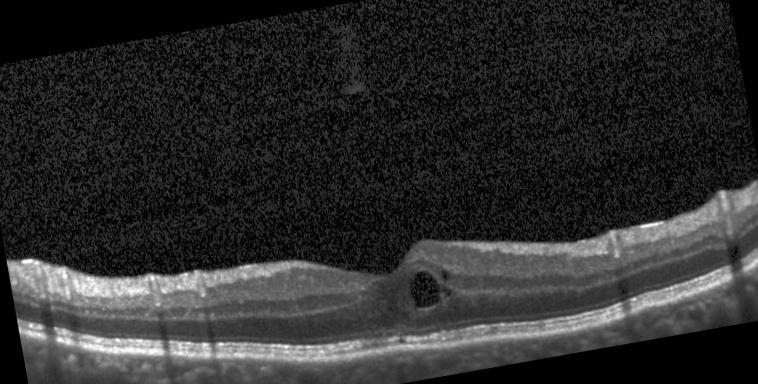intraretinal_cyst: (408, 269, 439, 308), (441, 270, 450, 281), (442, 287, 451, 297)
